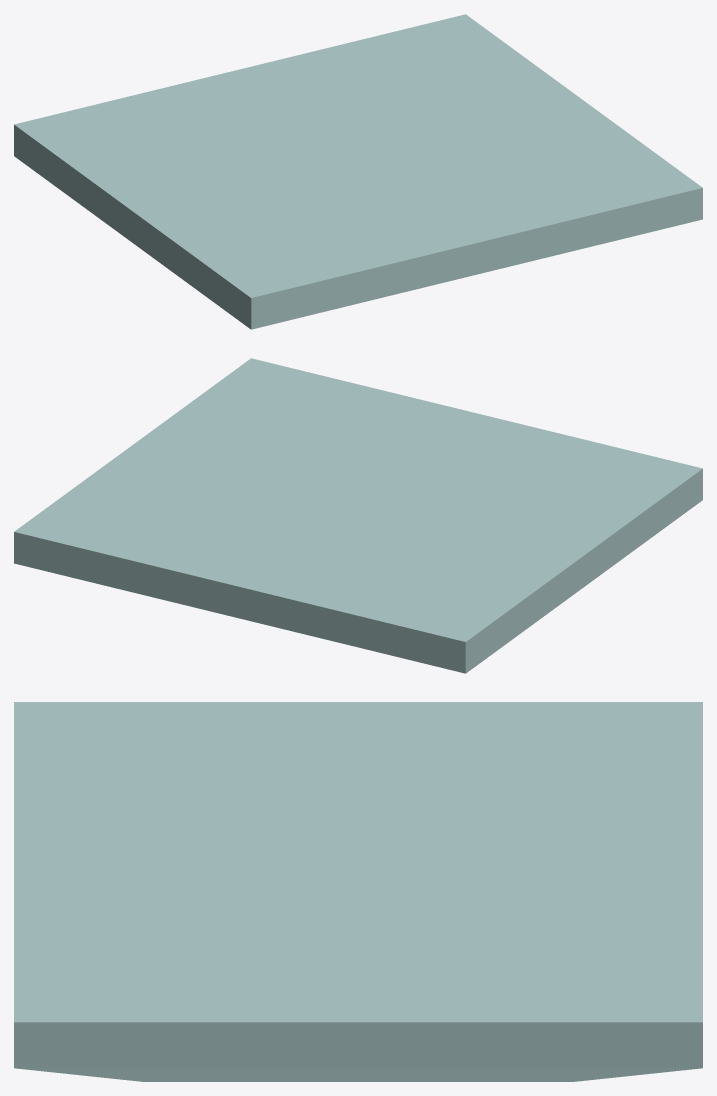
3 views of the same model, one above another, from view 1: azimuth 30°, elevation 25°; view 2: azimuth 150°, elevation 25°; view 3: azimuth 270°, elevation 25° (orthographic). The views are drawn at different scales.
Parts seen in each view (by area): view 1: pCube1795; view 2: pCube1795; view 3: pCube1795.
Boxes of the visible parts, left/top/right/bottom form: pCube1795: left=14, top=14, right=702, bottom=329; pCube1795: left=14, top=358, right=702, bottom=673; pCube1795: left=14, top=702, right=702, bottom=1081.
Size of the model in its own units: 8974 by 1386 by 8160.
